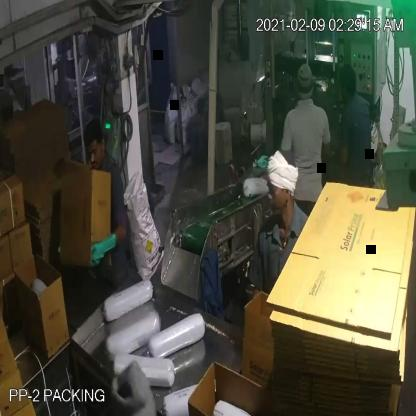glove: (86, 227, 117, 266)
